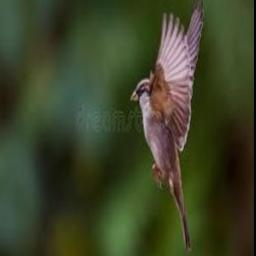Sparrow: (130, 0, 204, 251)
